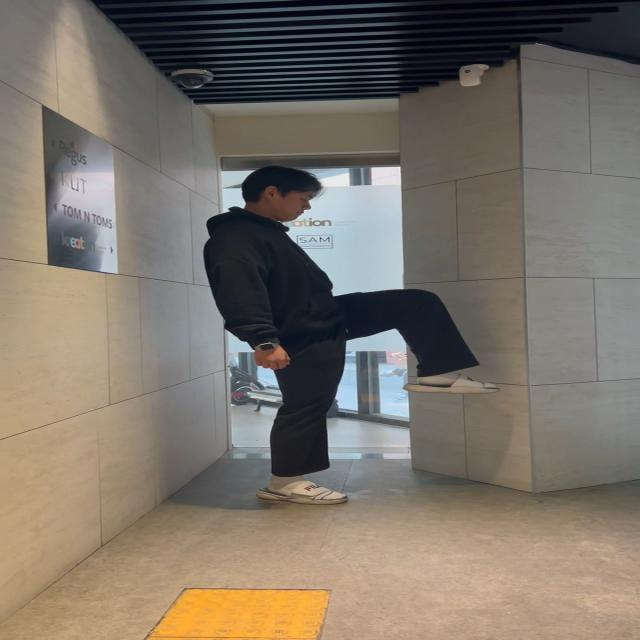knee: (312, 258, 526, 416)
